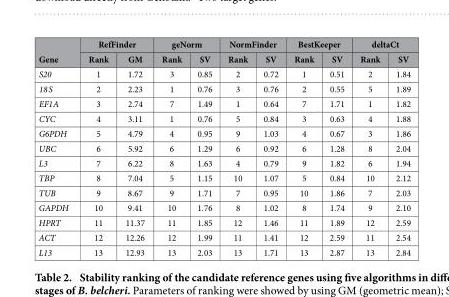table: (37, 37, 410, 257)
table column: (37, 37, 77, 257), (77, 37, 116, 257), (116, 37, 152, 257), (152, 37, 188, 257), (285, 37, 321, 257), (351, 37, 387, 257), (219, 37, 254, 257), (188, 37, 219, 257), (254, 37, 285, 257), (321, 37, 351, 257), (387, 37, 410, 257)
table column header: (37, 37, 410, 66)
table row: (37, 51, 410, 66), (37, 80, 410, 95), (37, 95, 410, 110), (37, 110, 410, 125), (37, 125, 410, 140), (37, 140, 410, 155), (37, 155, 410, 170), (37, 184, 410, 199), (37, 199, 410, 214), (37, 214, 410, 229), (37, 229, 410, 244), (37, 37, 410, 51), (37, 66, 410, 80), (37, 170, 410, 184), (37, 244, 410, 257)
table spanning cell: (37, 37, 77, 66), (77, 37, 152, 51), (152, 37, 219, 51), (219, 37, 285, 51), (285, 37, 351, 51), (351, 37, 410, 51)
